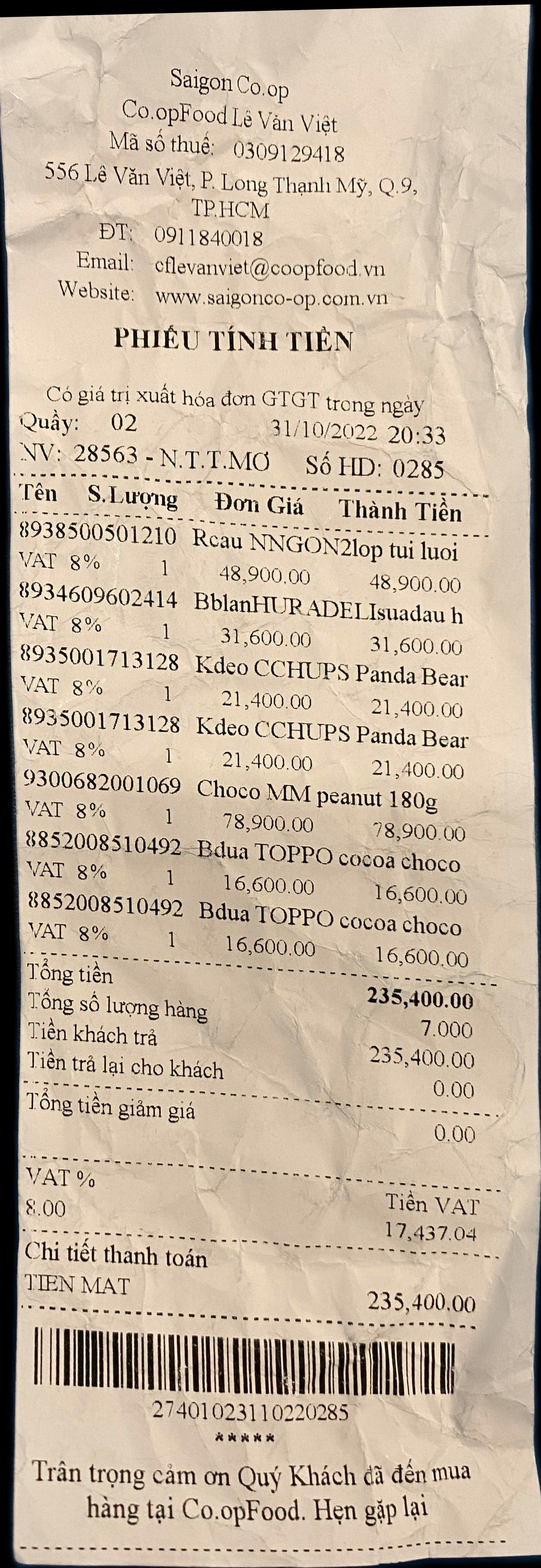Date: (256, 412, 391, 450)
Store_Name: (129, 56, 346, 111)
Total_Amount: (12, 966, 480, 1015)
